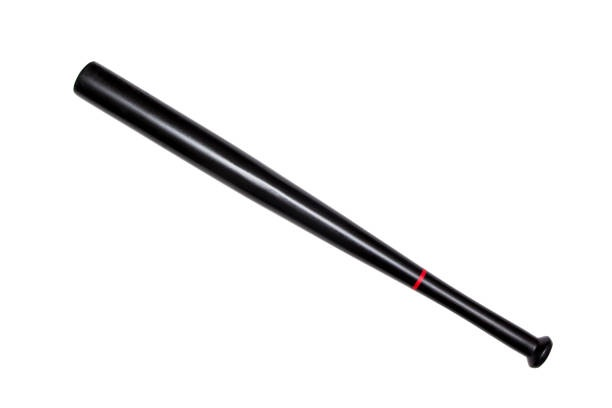bita: (70, 56, 561, 362)
